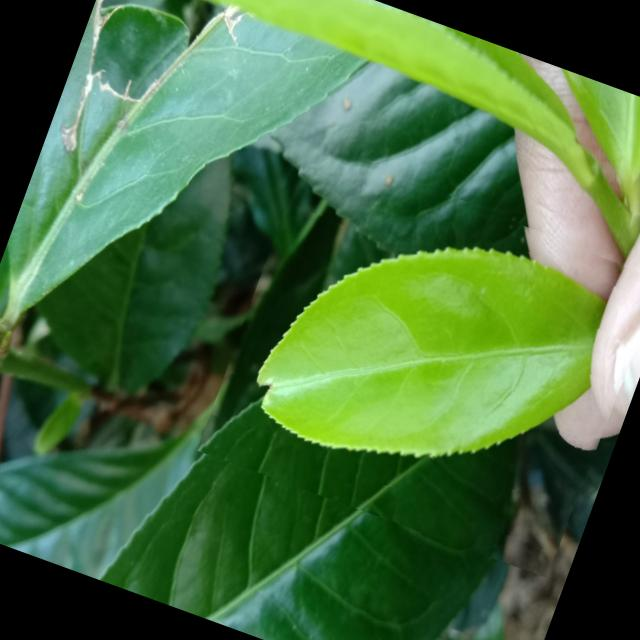Category C(4-7 days): (197, 137, 640, 579)
